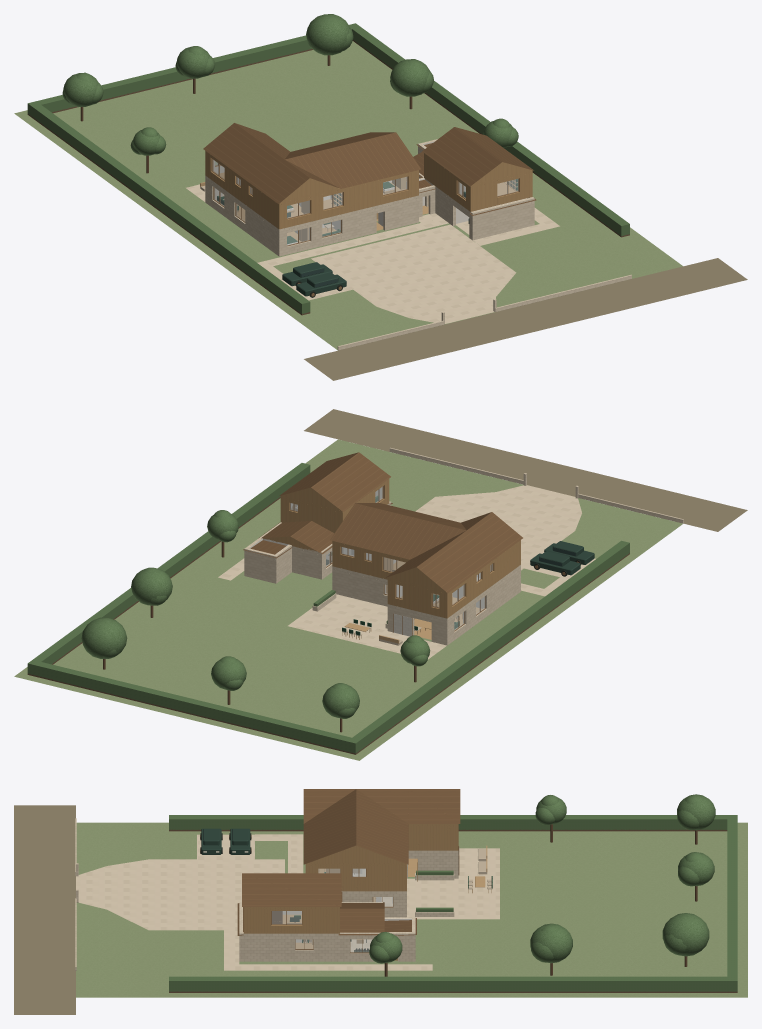
File: l-house.glb
3 renders of one model, top to bottom at view 1: azimuth 30°, elevation 25°; view 2: azimuth 150°, elevation 25°; view 3: azimuth 270°, elevation 25°, orthographic. The views are drawn at different scales.
Parts seen in each view (by area): view 1: Site / grass.001, Site / #91856b, Site / floor, Site / leaf.001, Site / leaf.002, Roofs / roof, Roofs / roof.007, Site / leaf, Roofs / roof.008, a / stone.037, Group.026 / leaf, Site / floor.005 (+14 smaller); view 2: Site / grass.001, Site / #91856b, Site / floor, Site / leaf, Site / leaf.001, Roofs / roof, Site / leaf.002, Roofs / roof.004, Roofs / roof.008, Site / floor.003, Site / floor.004, Group.026 / leaf (+16 smaller); view 3: Site / grass.001, Site / #91856b, Site / floor, Site / leaf.002, Site / leaf.001, Roofs / roof.009, Site / floor.003, Roofs / roof.007, Roofs / roof.004, Site / leaf, Roofs / roof.001, Site / floor.004 (+24 smaller).
Part boxes in pixels (x1,y1,x2,y2): Site / grass.001: (14, 41, 682, 350); Site / #91856b: (304, 258, 747, 380); Site / floor: (311, 224, 516, 323); Site / leaf.001: (32, 105, 310, 313); Site / leaf.002: (352, 27, 629, 236); Roofs / roof: (203, 123, 309, 203); Roofs / roof.007: (316, 132, 420, 188); Site / leaf: (27, 23, 360, 116); Roofs / roof.008: (422, 127, 501, 186); a / stone.037: (471, 201, 534, 240); Group.026 / leaf: (306, 14, 350, 55); Site / floor.005: (266, 218, 448, 266); Site / grass.001: (14, 439, 682, 760); Site / #91856b: (304, 409, 747, 531); Site / floor: (415, 485, 581, 570); Site / leaf: (27, 660, 360, 753); Site / leaf.001: (352, 540, 629, 749); Roofs / roof: (417, 512, 522, 592); Site / leaf.002: (33, 463, 310, 664); Roofs / roof.004: (330, 503, 434, 559); Roofs / roof.008: (311, 452, 390, 511); Site / floor.003: (288, 611, 446, 659); Site / floor.004: (307, 594, 387, 630); Group.026 / leaf: (81, 617, 127, 658); Site / grass.001: (76, 822, 747, 997); Site / #91856b: (14, 805, 75, 1014); Site / floor: (76, 859, 284, 930); Site / leaf.002: (169, 976, 727, 991); Site / leaf.001: (169, 815, 727, 829); Roofs / roof.009: (242, 873, 341, 906); Site / floor.003: (458, 848, 499, 919); Roofs / roof.007: (303, 805, 356, 864); Roofs / roof.004: (356, 805, 408, 864); Site / leaf: (727, 815, 737, 991); Roofs / roof.001: (408, 789, 460, 823); Site / floor.004: (407, 878, 458, 919).
Size of what is drawn, in the model's own units: 48 by 8 by 71.
30 materials, 13 textured.
